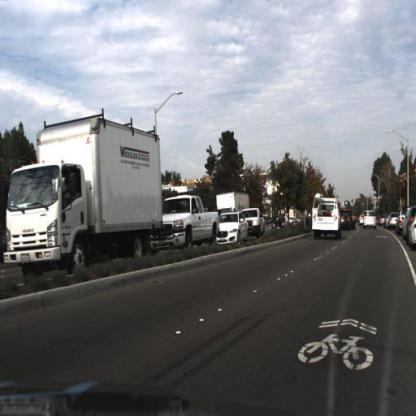car: (147, 185, 224, 256), (310, 192, 345, 241), (213, 208, 249, 253), (241, 206, 271, 246), (270, 211, 293, 238), (360, 209, 381, 234)
truck: (1, 98, 169, 284), (208, 184, 252, 224)
